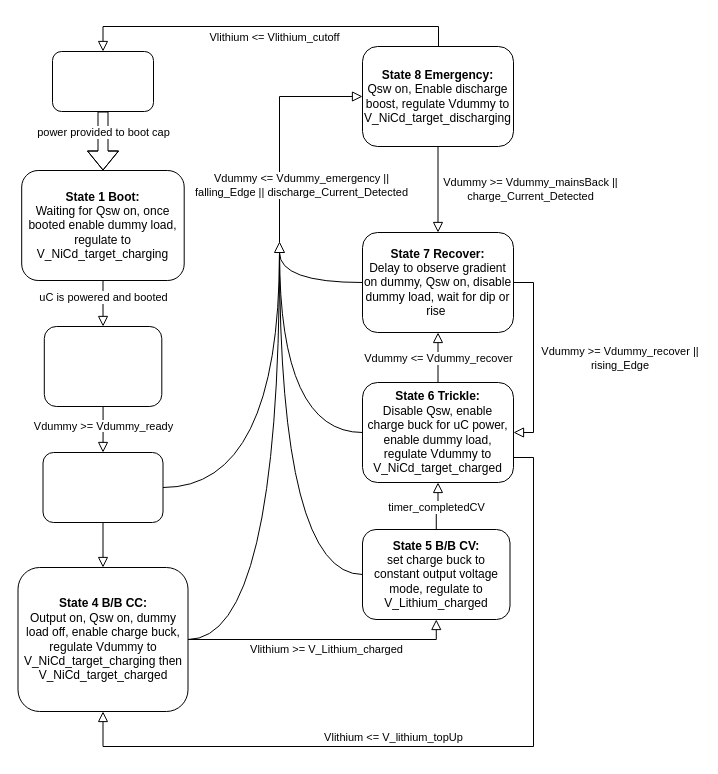
Image size: 718x774. Some labels were removed from this diagram. Each missing label, with the box of its shape:
State 2 Prepare: Enable discharge boost, dummy load on, wait for Vdummy to rise: (43, 326, 162, 406)
State 3 Direct: Unused, skip to state 4: (42, 452, 163, 522)
State 9 Off: Everything off, uC dies: (52, 50, 154, 112)
